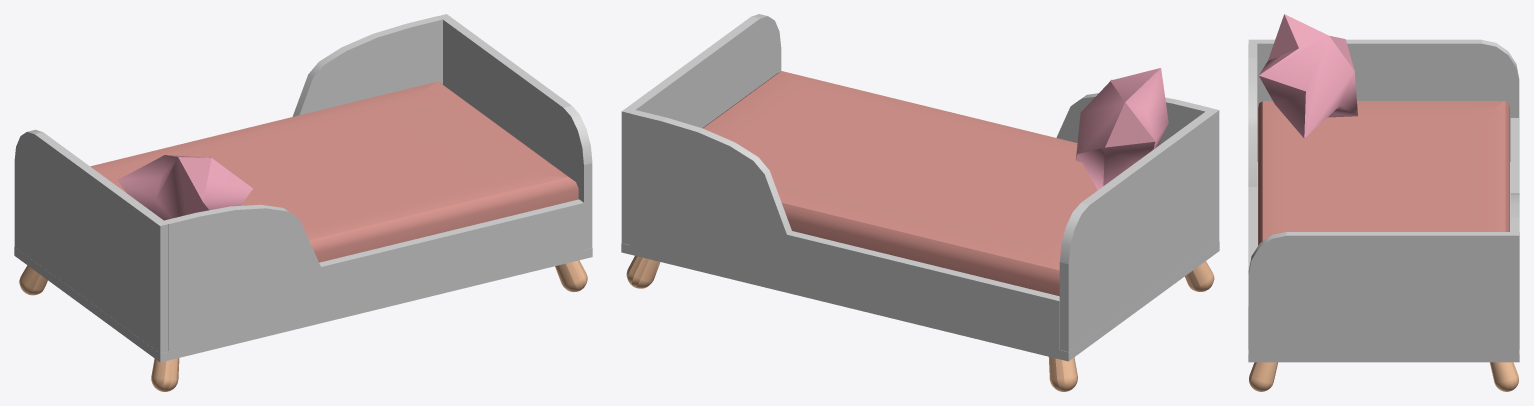
Rendered from Furn5_bed_color1_joined.fbx.
3 views of the same model, side by side, from view 1: azimuth 30°, elevation 25°; view 2: azimuth 150°, elevation 25°; view 3: azimuth 270°, elevation 25° (orthographic). The views are drawn at different scales.
Parts seen in each view (by area): view 1: Куб.218; view 2: Куб.218; view 3: Куб.218.
Part boxes in pixels (x1,y1,x2,y2): Куб.218: (14,14,592,391); Куб.218: (621,14,1219,391); Куб.218: (1248,14,1519,391).
Size of the model in its own units: 390 by 188 by 228.
